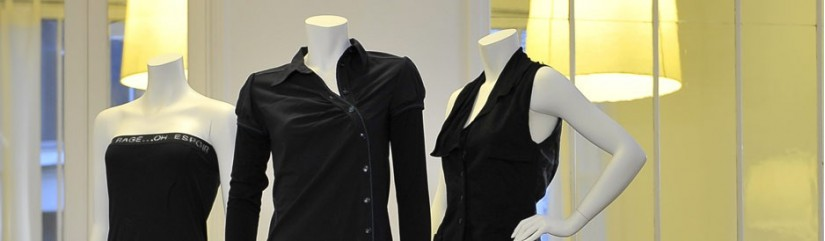person-like: (216, 9, 438, 241), (427, 25, 654, 241), (83, 49, 242, 241)
